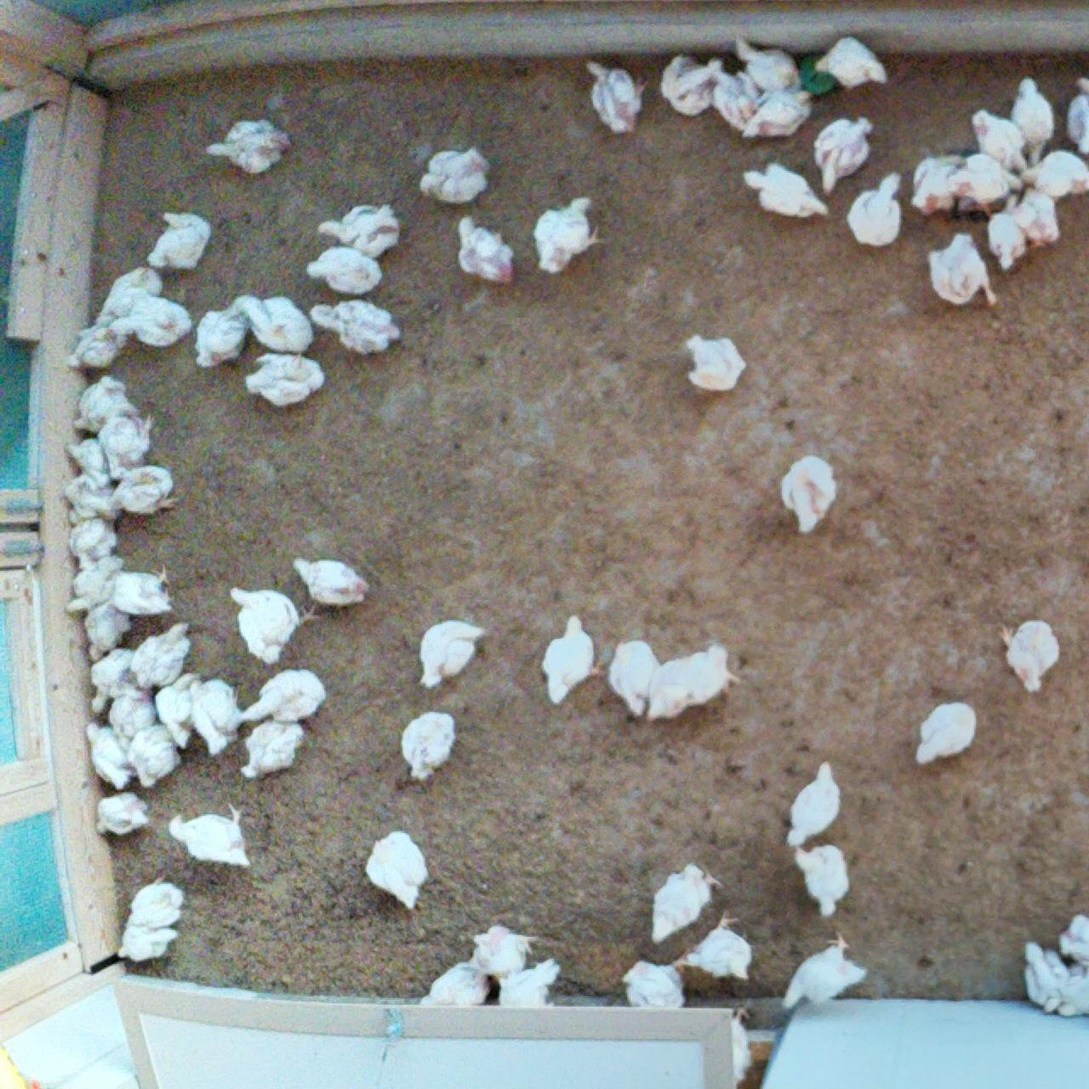chicken: (226, 583, 315, 664), (780, 934, 871, 1012), (835, 167, 916, 251), (990, 616, 1072, 697), (409, 615, 494, 693), (652, 642, 740, 717), (647, 860, 723, 945), (782, 760, 856, 847), (741, 161, 831, 232), (536, 614, 605, 705), (774, 452, 847, 538), (530, 195, 601, 279), (928, 231, 999, 314), (578, 58, 653, 136), (206, 111, 294, 177), (309, 295, 404, 356), (242, 661, 329, 727), (680, 327, 755, 402), (170, 804, 251, 871), (913, 701, 986, 775), (366, 829, 431, 911), (394, 709, 461, 786), (130, 613, 195, 692), (291, 550, 372, 613), (319, 195, 400, 258), (234, 293, 315, 354), (689, 913, 757, 985), (245, 350, 325, 411), (814, 112, 877, 188), (1012, 70, 1062, 165), (97, 561, 180, 618), (140, 209, 216, 271), (93, 404, 162, 472), (70, 372, 140, 439), (456, 217, 521, 289), (180, 307, 255, 369), (602, 639, 660, 719), (793, 845, 854, 920), (95, 267, 164, 332), (419, 147, 493, 207), (726, 33, 804, 89), (103, 462, 182, 517), (62, 550, 130, 613), (971, 105, 1032, 175), (83, 647, 142, 719), (814, 35, 888, 92), (241, 717, 309, 779), (190, 676, 242, 755), (469, 923, 539, 980), (156, 671, 204, 751), (621, 956, 687, 1014), (1017, 941, 1070, 1013), (496, 959, 566, 1013), (305, 248, 385, 295), (78, 723, 135, 787), (660, 51, 716, 116), (743, 87, 813, 139), (130, 719, 180, 791), (126, 869, 186, 929), (63, 469, 129, 523), (124, 296, 191, 349), (1021, 150, 1089, 201), (93, 790, 155, 844), (61, 436, 122, 490), (421, 963, 487, 1011), (104, 688, 155, 748), (987, 192, 1026, 270), (1016, 187, 1065, 249), (64, 519, 124, 568), (711, 63, 755, 128), (115, 925, 180, 968), (64, 324, 127, 368), (78, 608, 130, 661), (949, 168, 1006, 213), (912, 155, 956, 213), (723, 1006, 753, 1085), (968, 153, 1024, 191), (1064, 74, 1089, 157), (1051, 971, 1089, 1024), (1059, 913, 1088, 977), (1076, 1010, 1077, 1011)
